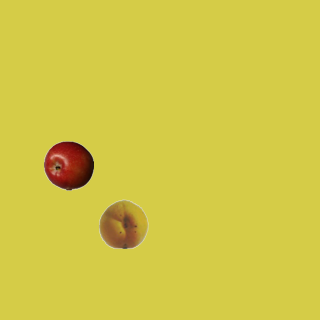Apple Braeburn: (43, 140, 93, 190)
Peach 2: (98, 198, 148, 248)
